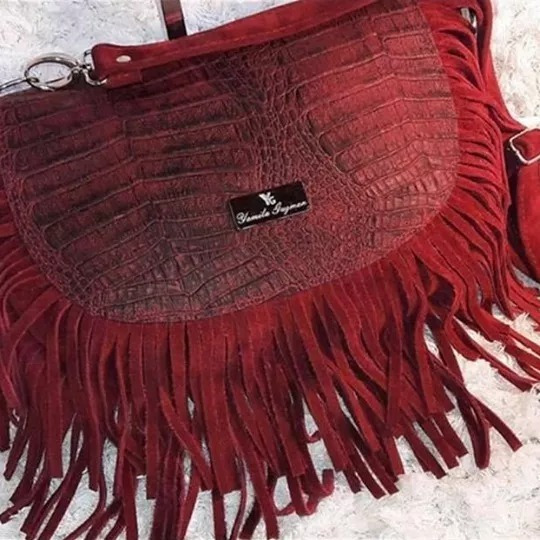cartera: (4, 2, 540, 532)
